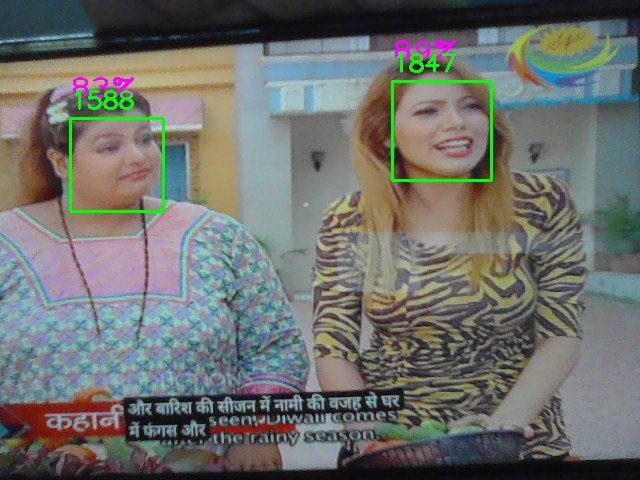fake: (392, 81, 492, 181), (70, 118, 164, 212)
